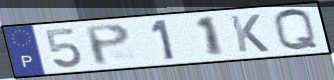1: (195, 14, 226, 59), (148, 18, 177, 62)
5: (43, 26, 84, 69)
K: (227, 13, 271, 54)
P: (82, 22, 133, 67)
Q: (271, 8, 322, 53)
